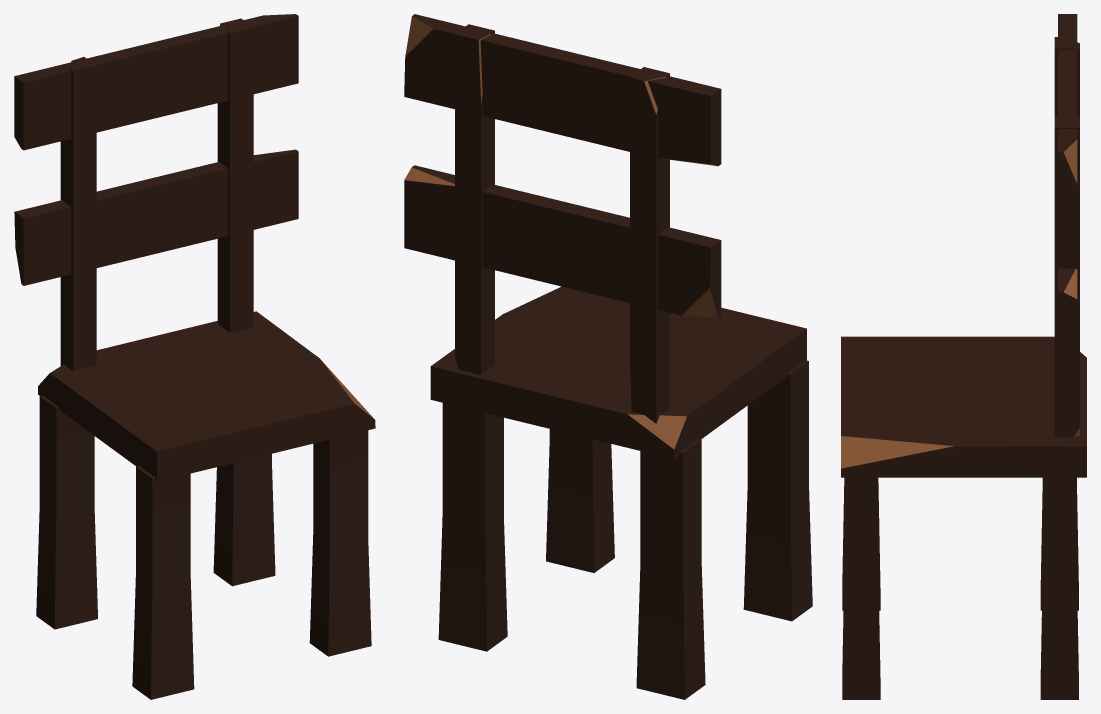
File: SM_chair_wooden.fbx
The picture shows the model from 3 angles, left to right: view 1: azimuth 30°, elevation 25°; view 2: azimuth 150°, elevation 25°; view 3: azimuth 270°, elevation 25°; orthographic projection. The views are drawn at different scales.
Parts seen in each view (by area): view 1: Object412; view 2: Object412; view 3: Object412.
Part boxes in pixels (x1,y1,x2,y2): Object412: (14, 14, 375, 699); Object412: (404, 14, 812, 699); Object412: (841, 14, 1086, 699).
Size of the model in its own units: 24.94 by 47.4 by 18.7.
